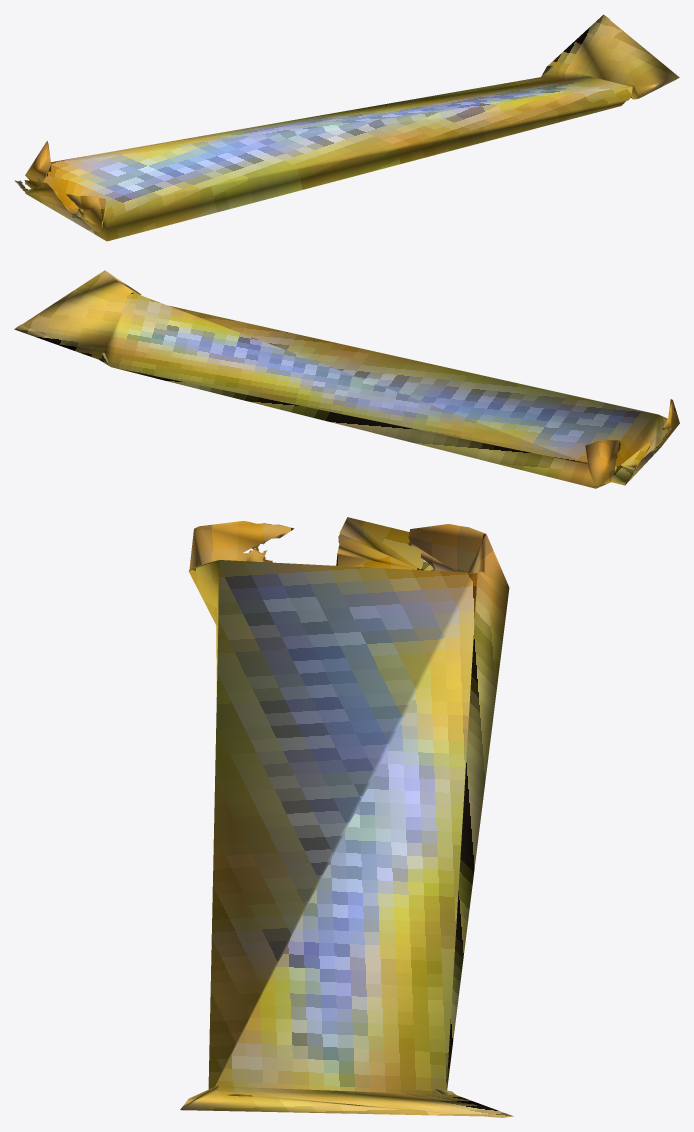
Rendered from Nestle_Candy_19_oz_Butterfinger_Singles_116567-low.glb.
3 views of the same model, one above another, from view 1: azimuth 30°, elevation 25°; view 2: azimuth 150°, elevation 25°; view 3: azimuth 270°, elevation 25° (orthographic). The views are drawn at different scales.
Parts seen in each view (by area): view 1: Nestle_Candy_19_oz_Butterfinger_Singles_116567; view 2: Nestle_Candy_19_oz_Butterfinger_Singles_116567; view 3: Nestle_Candy_19_oz_Butterfinger_Singles_116567.
Boxes of the visible parts, x1,y1,x2,y2 form: Nestle_Candy_19_oz_Butterfinger_Singles_116567: (14, 14, 679, 241); Nestle_Candy_19_oz_Butterfinger_Singles_116567: (14, 270, 679, 488); Nestle_Candy_19_oz_Butterfinger_Singles_116567: (180, 517, 513, 1117).
Size of the model in its own units: 0.1674 by 0.0134 by 0.0401.
1 material, 1 textured.
